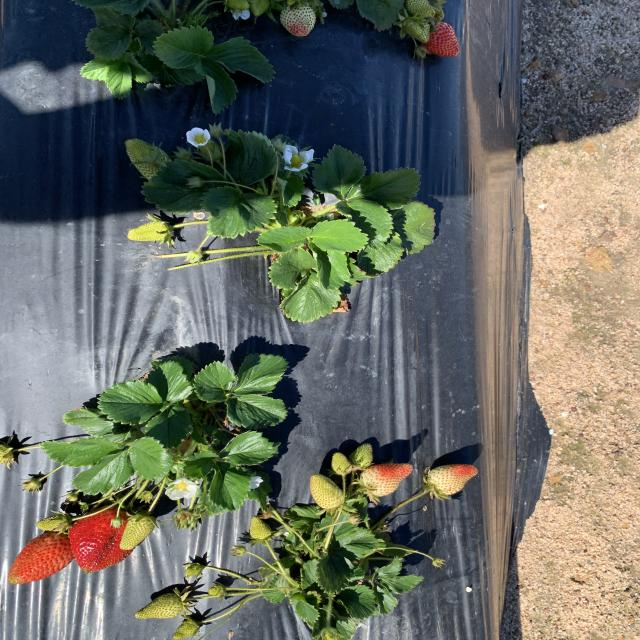unripe: (70, 507, 142, 575), (11, 525, 70, 584), (413, 22, 465, 59)
